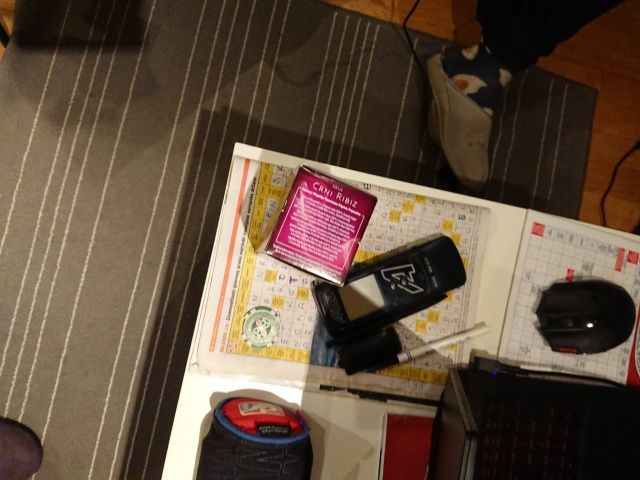Franck Black Currant Tea 60g: (262, 163, 380, 289)
